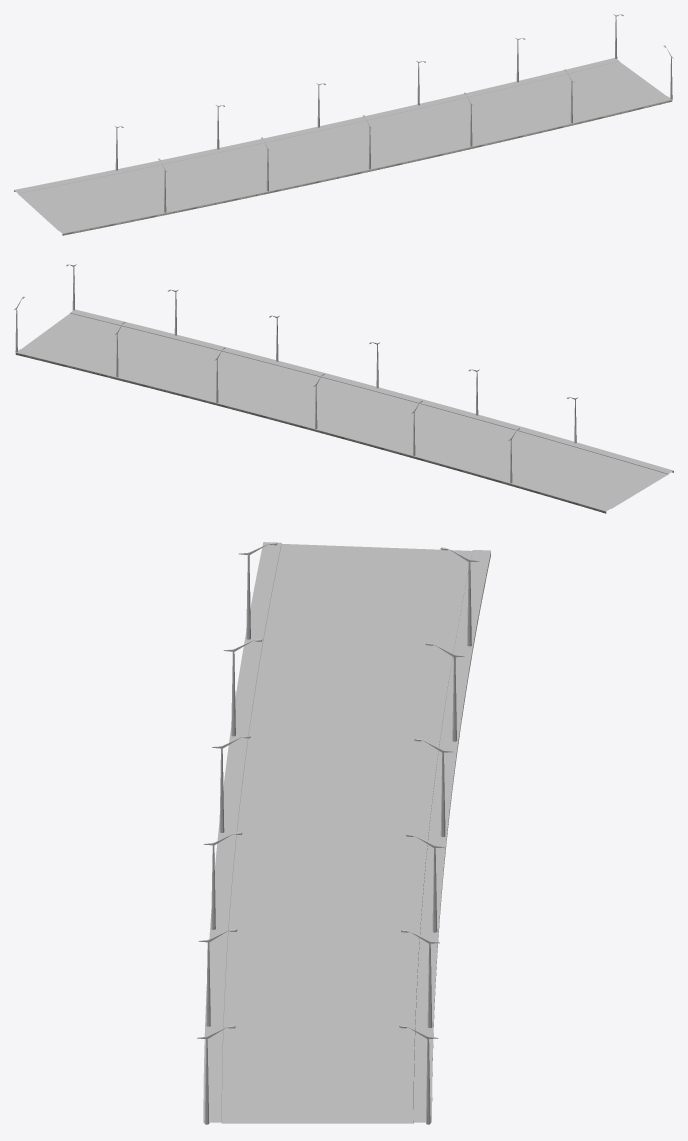
Rendered from Big_Road_5.FBX.
The picture shows the model from 3 angles, top to bottom: view 1: azimuth 30°, elevation 25°; view 2: azimuth 150°, elevation 25°; view 3: azimuth 270°, elevation 25°; orthographic projection. The views are drawn at different scales.
Visible parts, largest first — view 1: Big_Road_5, city_light; view 2: Big_Road_5, city_light; view 3: Big_Road_5, city_light.
Part boxes in pixels (box(x1,y1,x2,y2)): Big_Road_5: box(14, 58, 672, 235); city_light: box(115, 14, 673, 212); Big_Road_5: box(15, 309, 673, 513); city_light: box(14, 264, 577, 483); Big_Road_5: box(203, 542, 490, 1123); city_light: box(197, 542, 479, 1124).
Bounding box in the file's own units: 13646 × 1104 × 2919.
